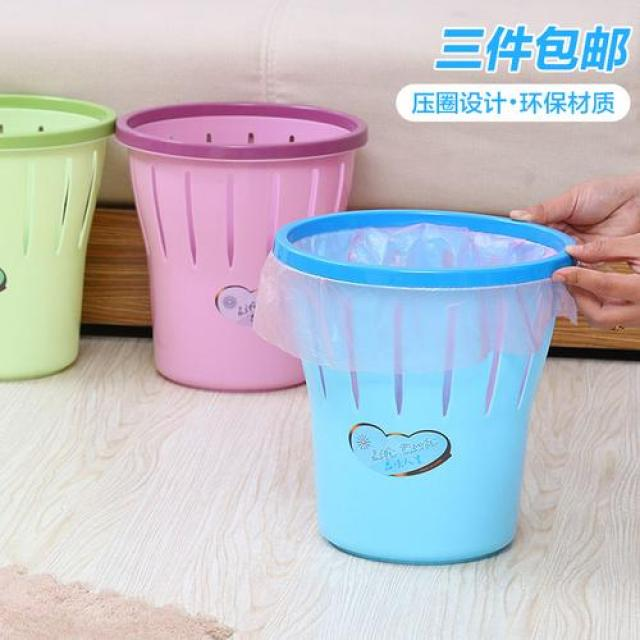dustbin: (242, 203, 588, 573), (115, 101, 371, 396)
